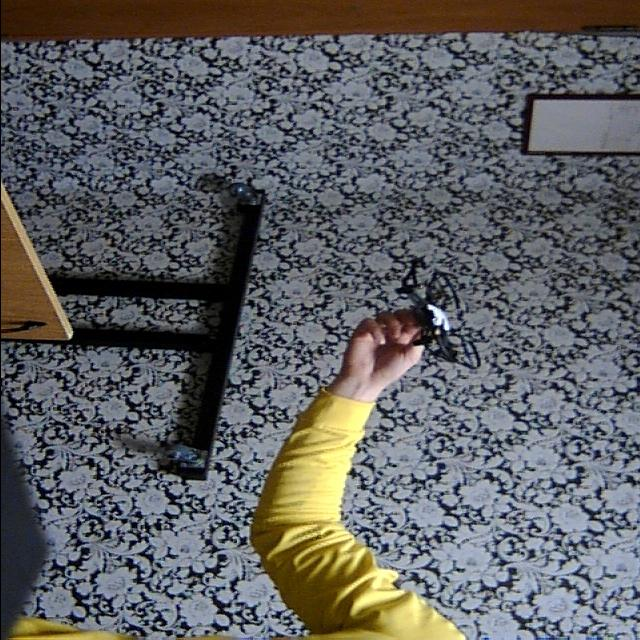drone: (374, 253, 484, 375)
